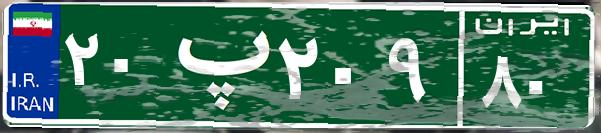0: (330, 28, 385, 110), (110, 28, 158, 105), (525, 38, 570, 115)
2: (273, 28, 330, 110), (57, 26, 110, 107)
8: (475, 38, 525, 113)
9: (385, 28, 445, 110)
پ: (158, 15, 273, 115)
